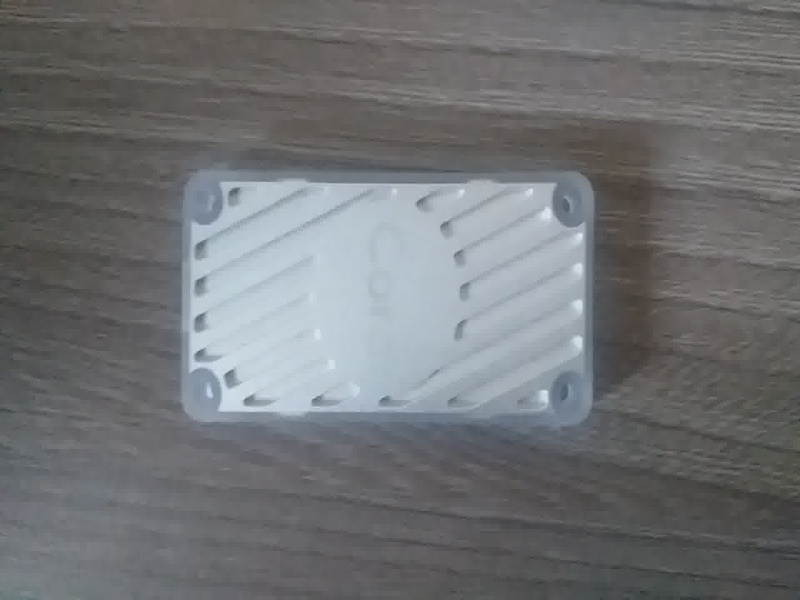coral: (170, 153, 606, 442)
